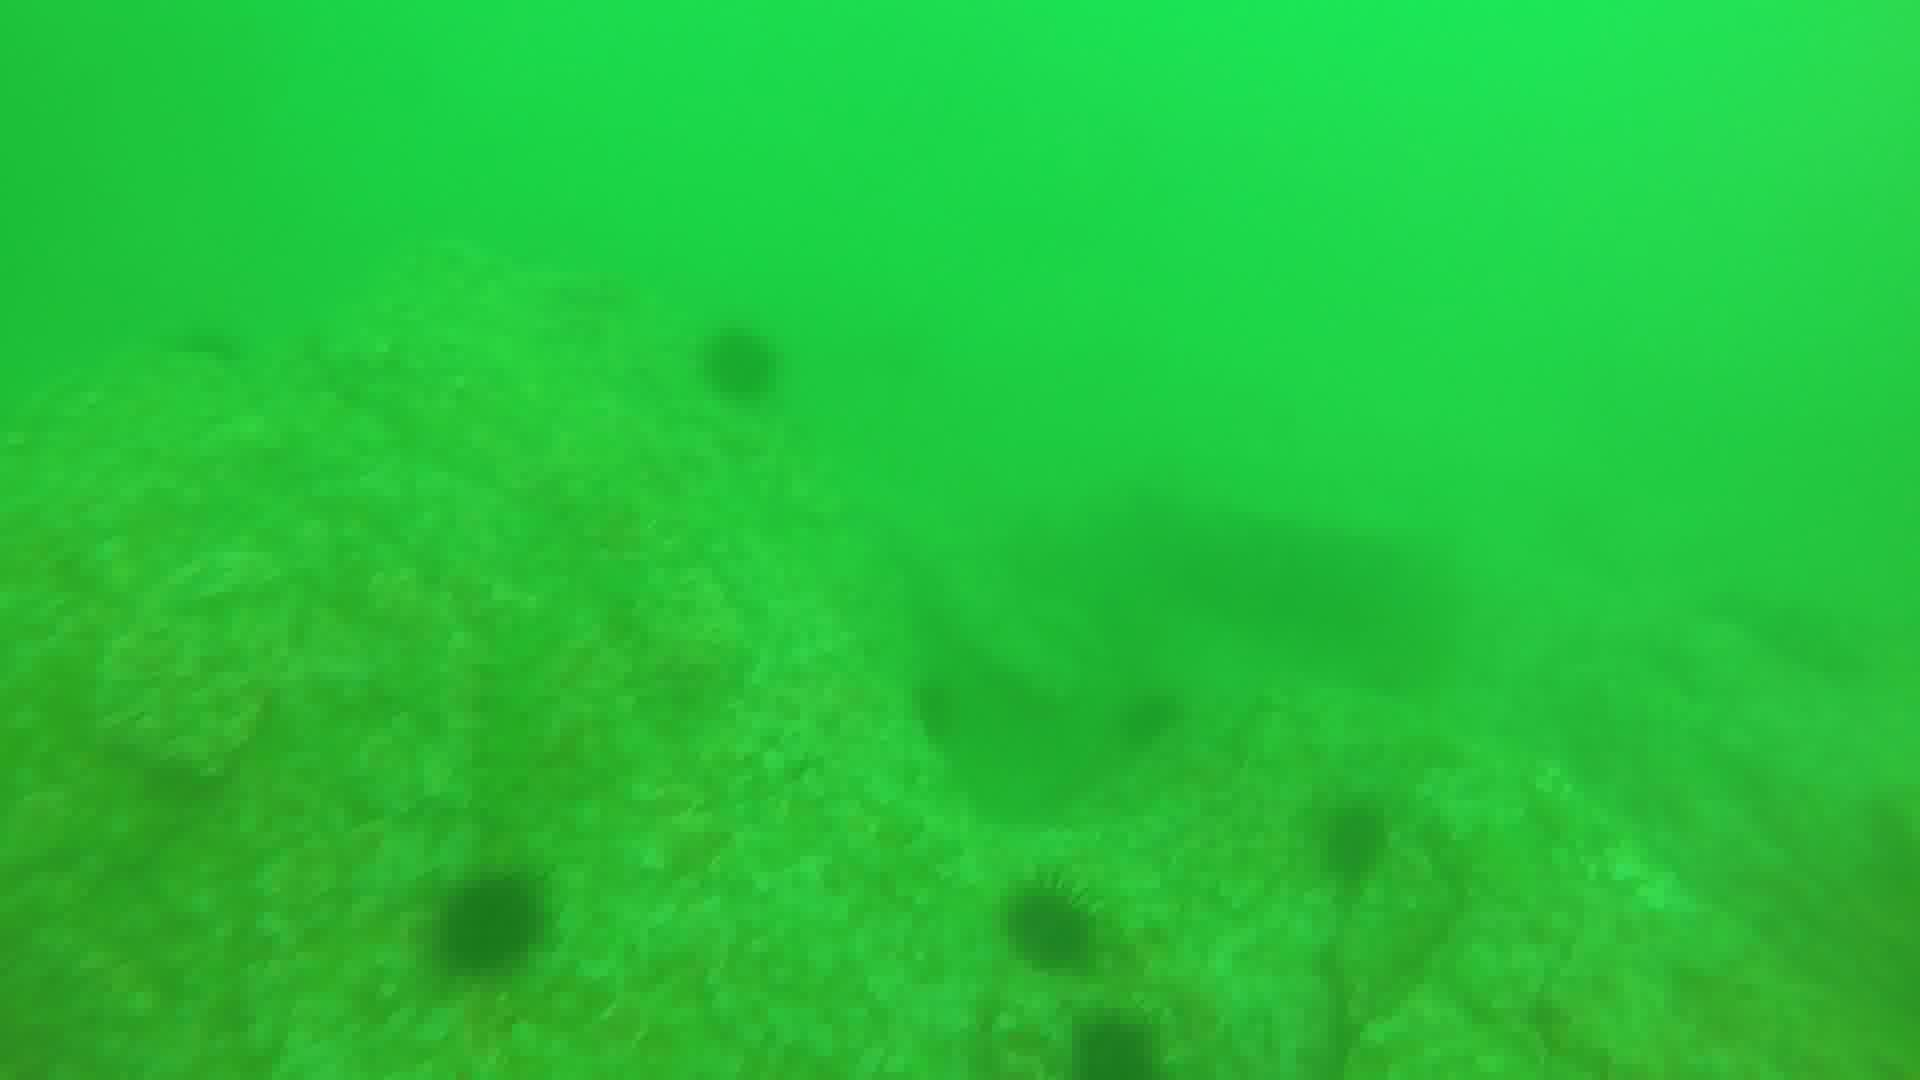echinus: (444, 870, 549, 978), (1011, 874, 1102, 982), (1319, 796, 1400, 889), (1062, 1013, 1162, 1080), (704, 324, 781, 409)
